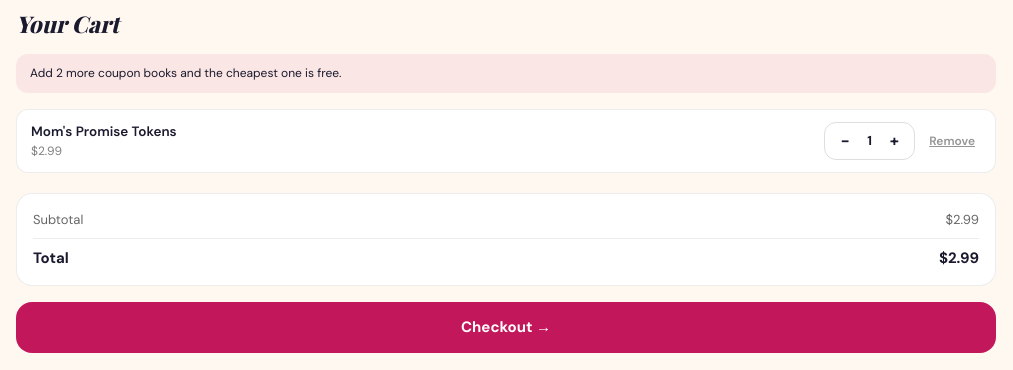
Test: CartView › decrements a line's quantity via its stepper, and removes the line entirely once it reaches 0
Step 1. Click the button "−" → coordinates (845, 141), box [835, 131, 855, 151]
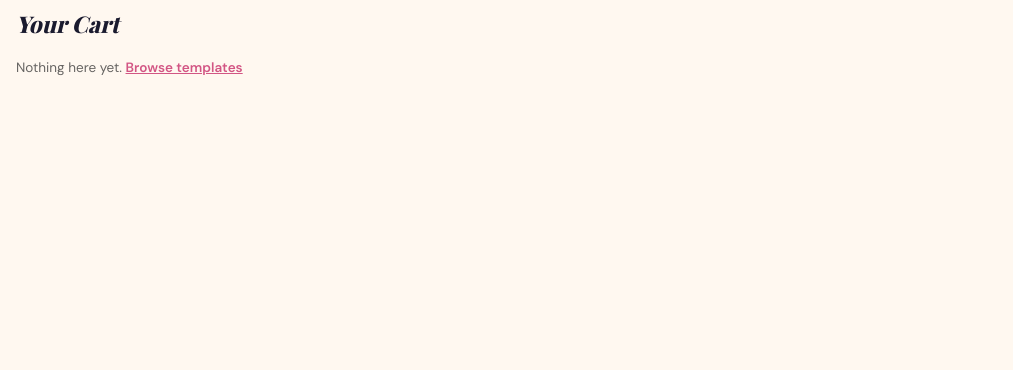
expect the text "Mom's Promise Tokens" is gone: met
expect the text "Nothing here yet." is shown: met, box [16, 58, 122, 76]
